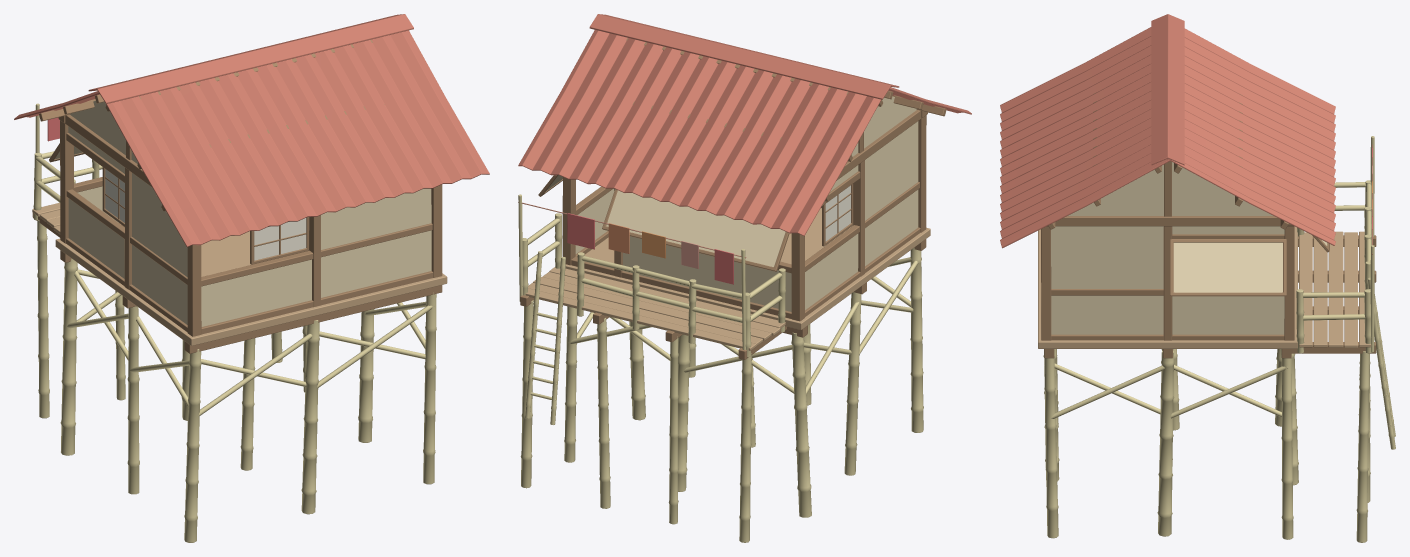
File: house_water_24757.glb
3 renders of one model, left to right at view 1: azimuth 30°, elevation 25°; view 2: azimuth 150°, elevation 25°; view 3: azimuth 270°, elevation 25°, orthographic. The views are drawn at different scales.
Visible parts, largest first — view 1: water_24757_tin, water_24757_bamboo, water_24757_sawali, water_24757_timber, water_24757_plank, water_24757_capiz; view 2: water_24757_tin, water_24757_bamboo, water_24757_sawali, water_24757_timber, water_24757_plank, water_24757_cloth, water_24757_capiz; view 3: water_24757_tin, water_24757_sawali, water_24757_bamboo, water_24757_timber, water_24757_plank.
Boxes of the visible parts, x1,y1,x2,y2 form: water_24757_tin: (14,14,489,247); water_24757_bamboo: (33,103,436,542); water_24757_sawali: (55,100,431,326); water_24757_timber: (32,39,442,353); water_24757_plank: (32,202,447,345); water_24757_capiz: (105,169,306,260); water_24757_tin: (518,14,971,236); water_24757_bamboo: (518,194,923,542); water_24757_sawali: (545,96,918,311); water_24757_timber: (520,38,946,359); water_24757_plank: (525,208,930,350); water_24757_cloth: (518,202,746,284); water_24757_capiz: (825,185,850,241); water_24757_tin: (1000,14,1335,248); water_24757_sawali: (1051,162,1327,334); water_24757_bamboo: (1043,136,1395,542); water_24757_timber: (1041,93,1376,358); water_24757_plank: (1038,226,1371,348).
Size of the model in its own units: 6.07 by 7.82 by 7.08.
